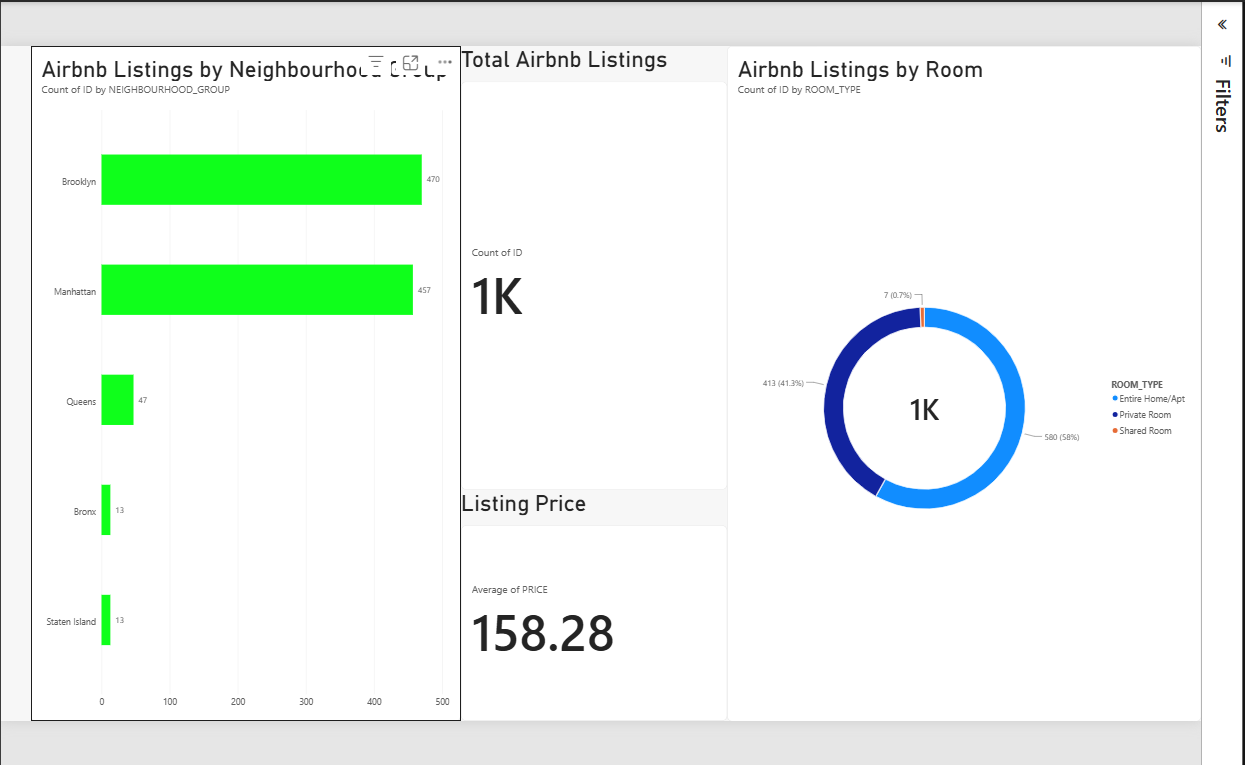

This screenshot's page, from the dashboard's own definition file:
{"tool":"powerbi","page":{"name":"Executive Summary","canvas":[1920,1080],"ordinal":0},"visuals":[{"type":"clusteredBarChart","title":"Airbnb Listings by Neighbourhood Group","fields":{"Category":["Cleaned Data.NEIGHBOURHOOD_GROUP"],"Y":["Count(Cleaned Data.ID)"]},"box":[48.3,0,687.1,1080.8],"z":0},{"type":"cardVisual","title":"Total Airbnb Listings","fields":{"Data":["CountNonNull(Cleaned Data.ID)"]},"box":[735.3,0,426.5,710.3],"z":1},{"type":"donutChart","title":"Airbnb Listings by Room","fields":{"Category":["Cleaned Data.ROOM_TYPE"],"Y":["Count(Cleaned Data.ID)"]},"box":[1161.9,0,758.5,1080.8],"z":2},{"type":"cardVisual","title":"Listing Price","fields":{"Data":["Avg(Cleaned Data.PRICE)"]},"box":[735.3,710.3,426.5,370.6],"z":3}]}

Visuals, with their boxes on the page's 1920x1080 design canvas (x1, y1, x2, y2). These are canvas units, not pixel positions in the 1245x765 screenshot, which may show the page scaled, cropped or inside an application window:
"Airbnb Listings by Neighbourhood Group" clusteredBarChart: 48/0/735/1081
"Total Airbnb Listings" cardVisual: 735/0/1162/710
"Airbnb Listings by Room" donutChart: 1162/0/1920/1081
"Listing Price" cardVisual: 735/710/1162/1081
